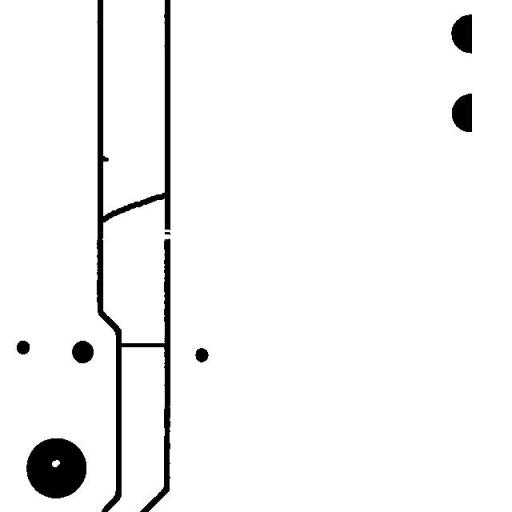open: (150, 222, 182, 246)
pin-hole: (44, 452, 67, 474)
short: (94, 184, 174, 230), (110, 336, 176, 354)
spur: (93, 148, 116, 169)
